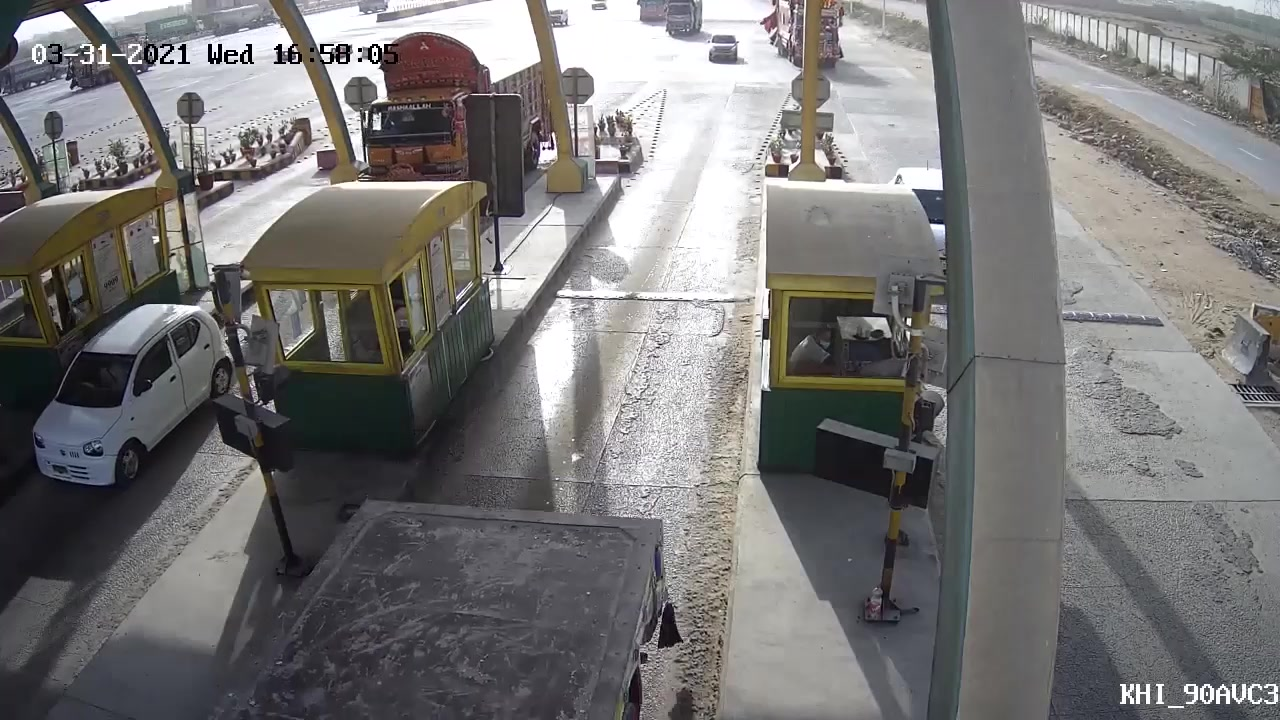F1: (700, 26, 746, 69)
